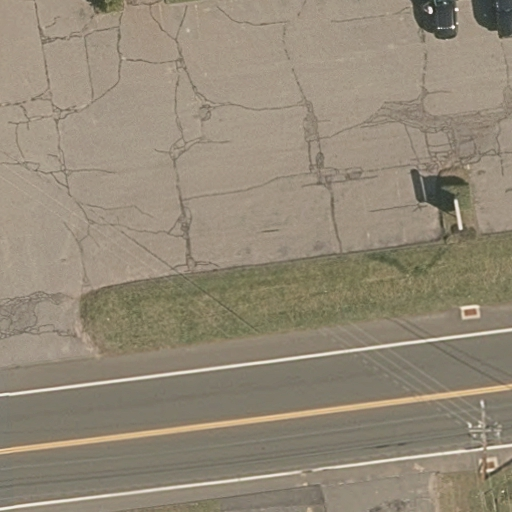DT: (465, 393, 511, 487)
